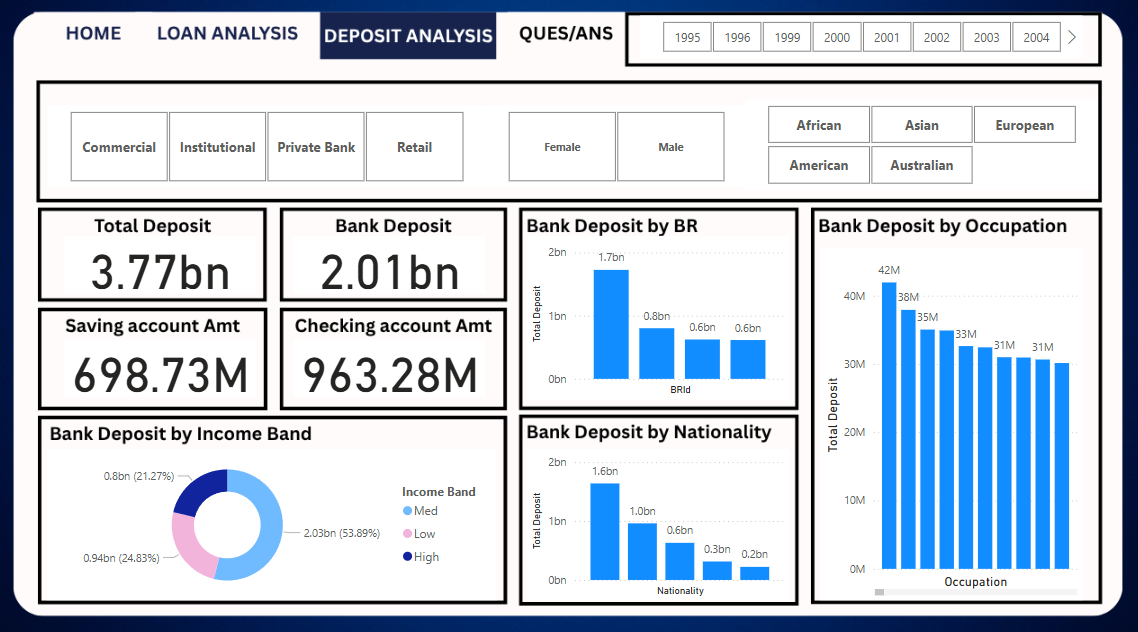

What the dashboard file says about the page in this screenshot:
{"tool":"powerbi","page":{"name":"Deposit Analysis ","canvas":[1280,720],"ordinal":2},"visuals":[{"type":"actionButton","box":[54.8,24.6,117.2,45.4],"z":0},{"type":"actionButton","box":[172,24.6,190.9,45.4],"z":1000},{"type":"actionButton","box":[561.3,18.9,143.6,51],"z":2000},{"type":"card","fields":{"Values":["Banking.Total Deposit"]},"box":[79.4,270.2,213.5,64.3],"z":3000},{"type":"card","fields":{"Values":["Sum(Banking.Bank Deposits)"]},"box":[334.5,270.2,213.5,64.3],"z":4000},{"type":"card","fields":{"Values":["Sum(Banking.Saving Accounts)"]},"box":[79.4,385.5,213.5,64.3],"z":5000},{"type":"card","fields":{"Values":["Sum(Banking.Checking Accounts)"]},"box":[334.5,385.5,213.5,64.3],"z":6000},{"type":"donutChart","fields":{"Category":["Banking.Income Band"],"Y":["Banking.Total Deposit"]},"box":[62.4,506.5,498.9,168.2],"z":7000},{"type":"clusteredColumnChart","fields":{"Category":["Banking.BRId"],"Y":["Banking.Total Deposit"]},"box":[595.3,270.2,291,181.4],"z":8000},{"type":"clusteredColumnChart","fields":{"Y":["Banking.Total Deposit"],"Category":["Banking.Nationality"]},"box":[595.3,506.5,291,168.2],"z":9000},{"type":"clusteredColumnChart","fields":{"Y":["Banking.Total Deposit"],"Category":["Banking.Occupation"]},"box":[920.3,283.5,291,391.2],"z":10000},{"type":"slicer","fields":{"Values":["Banking.BRId"]},"box":[62.4,124.7,485.7,90.7],"z":11000},{"type":"slicer","fields":{"Values":["Banking.Nationality"]},"box":[837.2,119.1,391.2,100.2],"z":12000},{"type":"slicer","fields":{"Values":["Banking.GenderId"]},"box":[548,124.7,289.1,90.7],"z":13000},{"type":"slicer","fields":{"Values":["Banking.Year of Joining"]},"box":[720,24.6,491.3,47.2],"z":14000}]}

Visuals, with their boxes in screenshot pixels (x1, y1, x2, y2), scaled from the page's 1280x720 canvas onto the 1138x632 screenshot:
actionButton: [49,22,153,61]
actionButton: [153,22,323,61]
actionButton: [499,17,627,61]
card - Banking.Total Deposit: [71,237,260,294]
card - Sum(Banking.Bank Deposits): [297,237,487,294]
card - Sum(Banking.Saving Accounts): [71,338,260,395]
card - Sum(Banking.Checking Accounts): [297,338,487,395]
donutChart - Banking.Income Band x Banking.Total Deposit: [55,445,499,592]
clusteredColumnChart - Banking.BRId x Banking.Total Deposit: [529,237,788,396]
clusteredColumnChart - Banking.Total Deposit x Banking.Nationality: [529,445,788,592]
clusteredColumnChart - Banking.Total Deposit x Banking.Occupation: [818,249,1077,592]
slicer - Banking.BRId: [55,109,487,189]
slicer - Banking.Nationality: [744,105,1092,192]
slicer - Banking.GenderId: [487,109,744,189]
slicer - Banking.Year of Joining: [640,22,1077,63]
